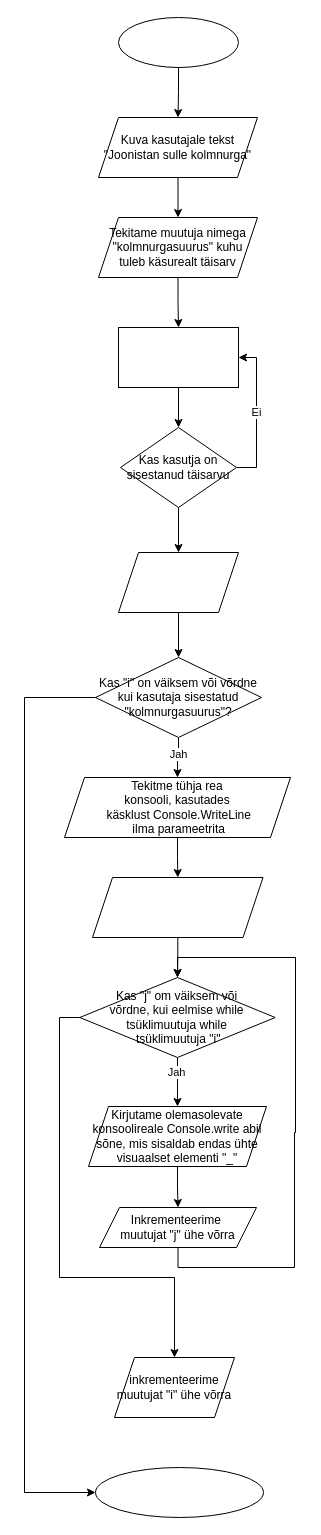
Some shapes in this 321 by 1535 pixel diagram are drawn without their labels. The shapes that lost their labels are listed below. From the top down, each one's centre as x and y in pixels, then its label:
point (178, 42): Algus
point (178, 357): Ootab kasutajalt sisendit
point (178, 582): Tekitame tsüklimuutuja "i" mille algväärtus on 1.
point (177, 907): Tekitame tsüklimuutuja "j" mille sees on algväärtus 1
point (179, 1492): Lõpp
